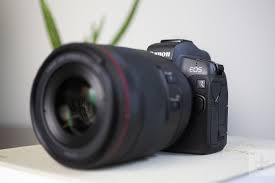camera: (26, 37, 238, 174)
